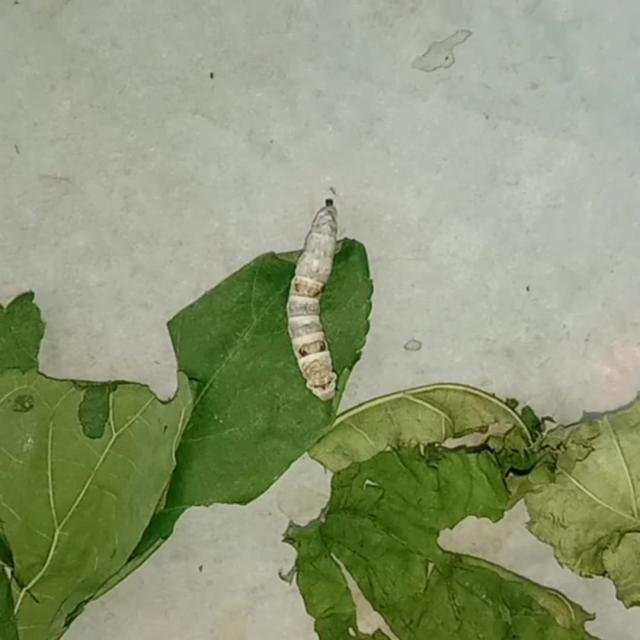Grasserie: (242, 152, 402, 458)
